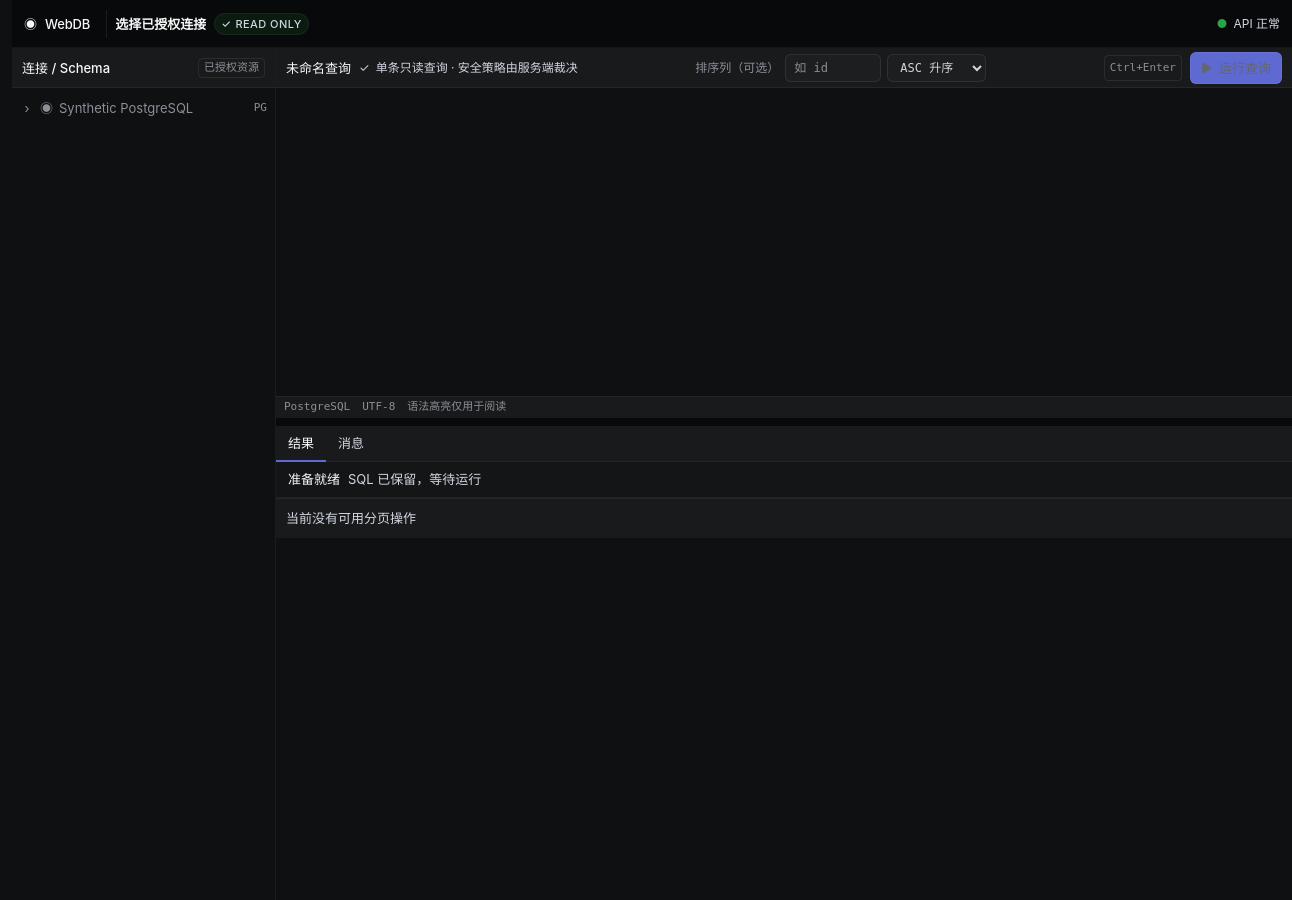
it: P0 workbench › clears pagination when the sort column changes after a paginated run
This screenshot has width=1292, height=900.
Click the list item "› ◉ Synthetic PostgreSQL PG": (144, 108) [12, 94, 275, 122]
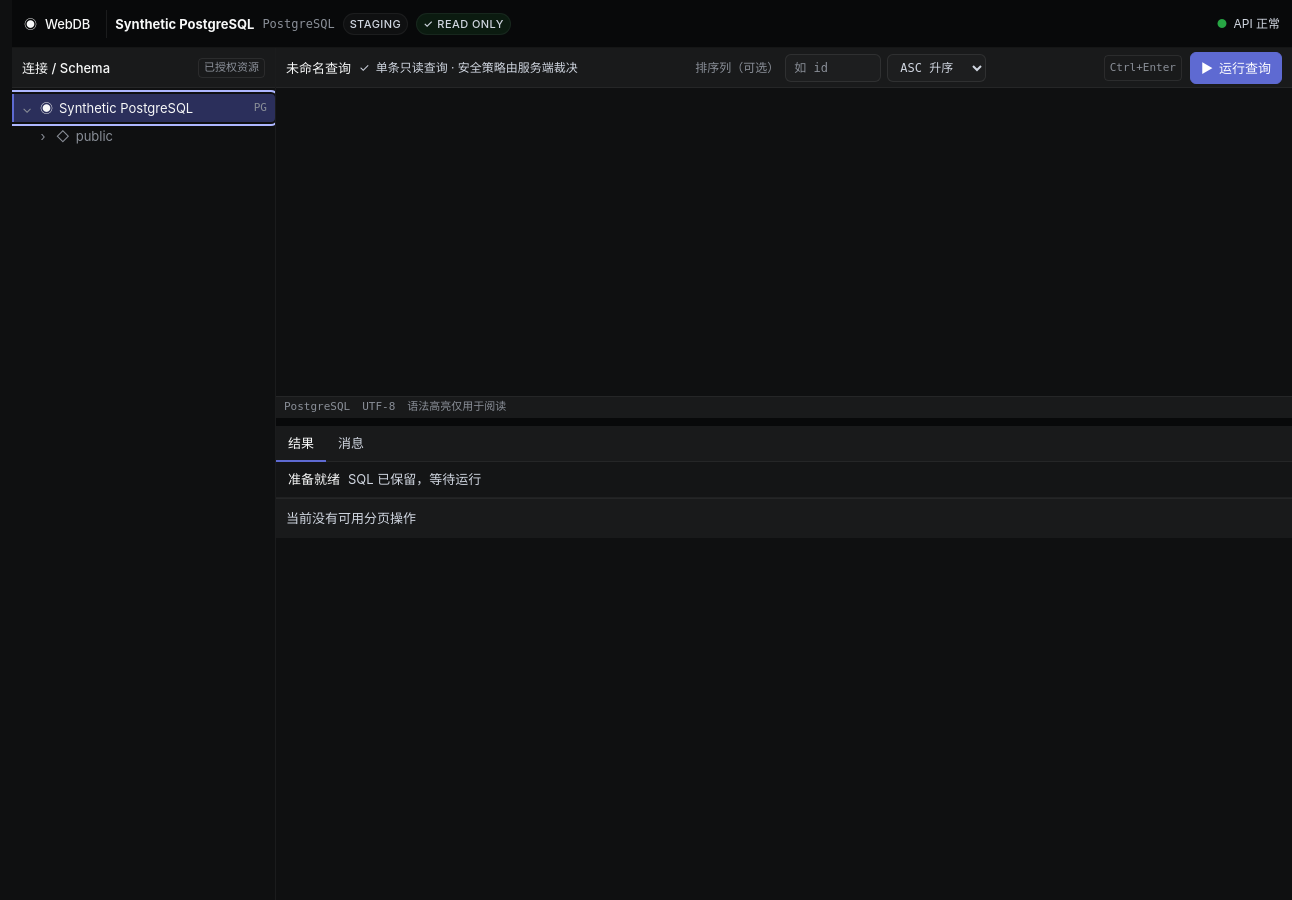
Click the button "▶ 运行查询": (1236, 68) [1190, 52, 1282, 84]
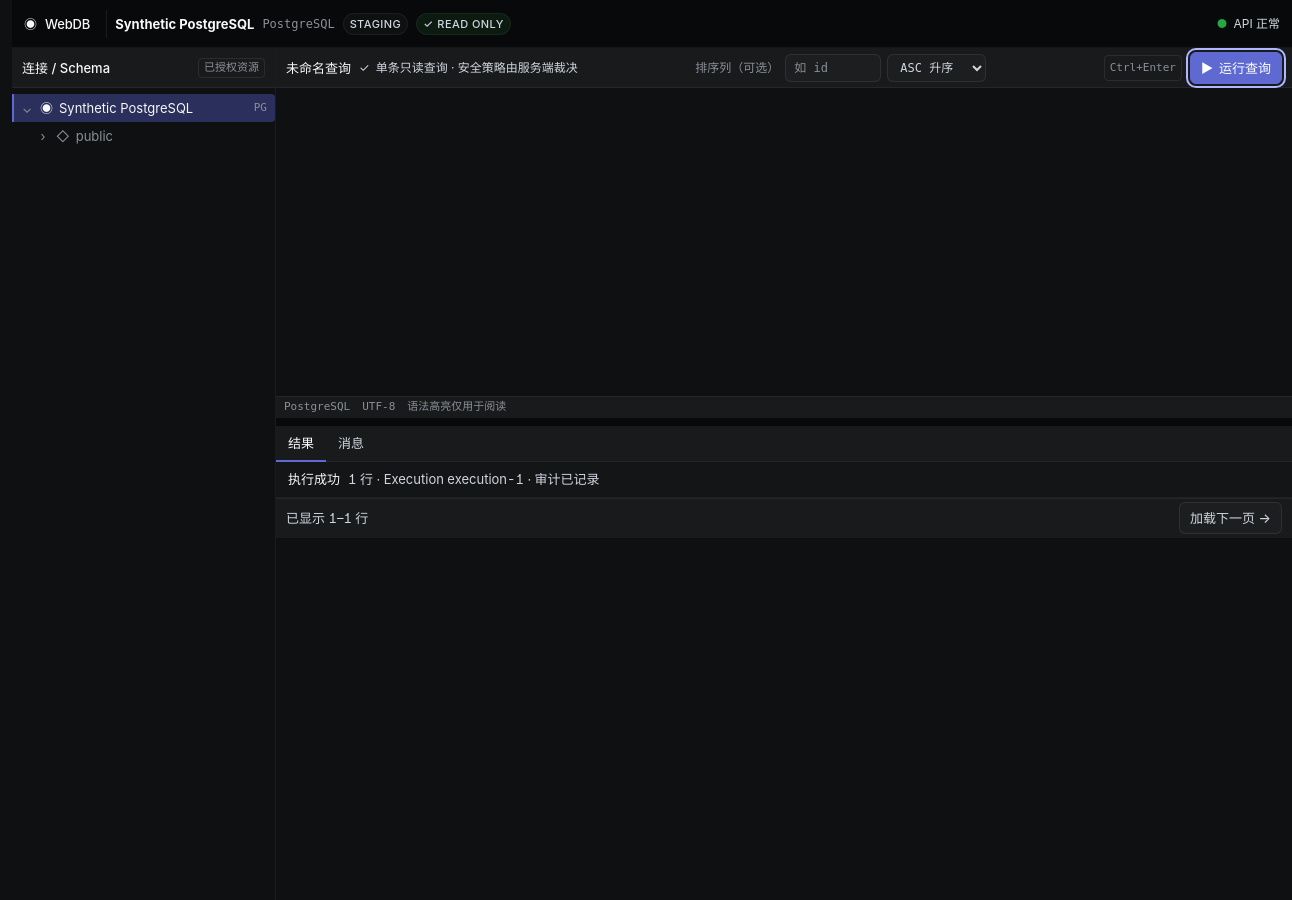
expect the button "加载下一页 →" is shown: met, box [1179, 502, 1282, 534]
In the field labelled "排序列（可选）": (833, 68) [785, 54, 881, 82], type "id"
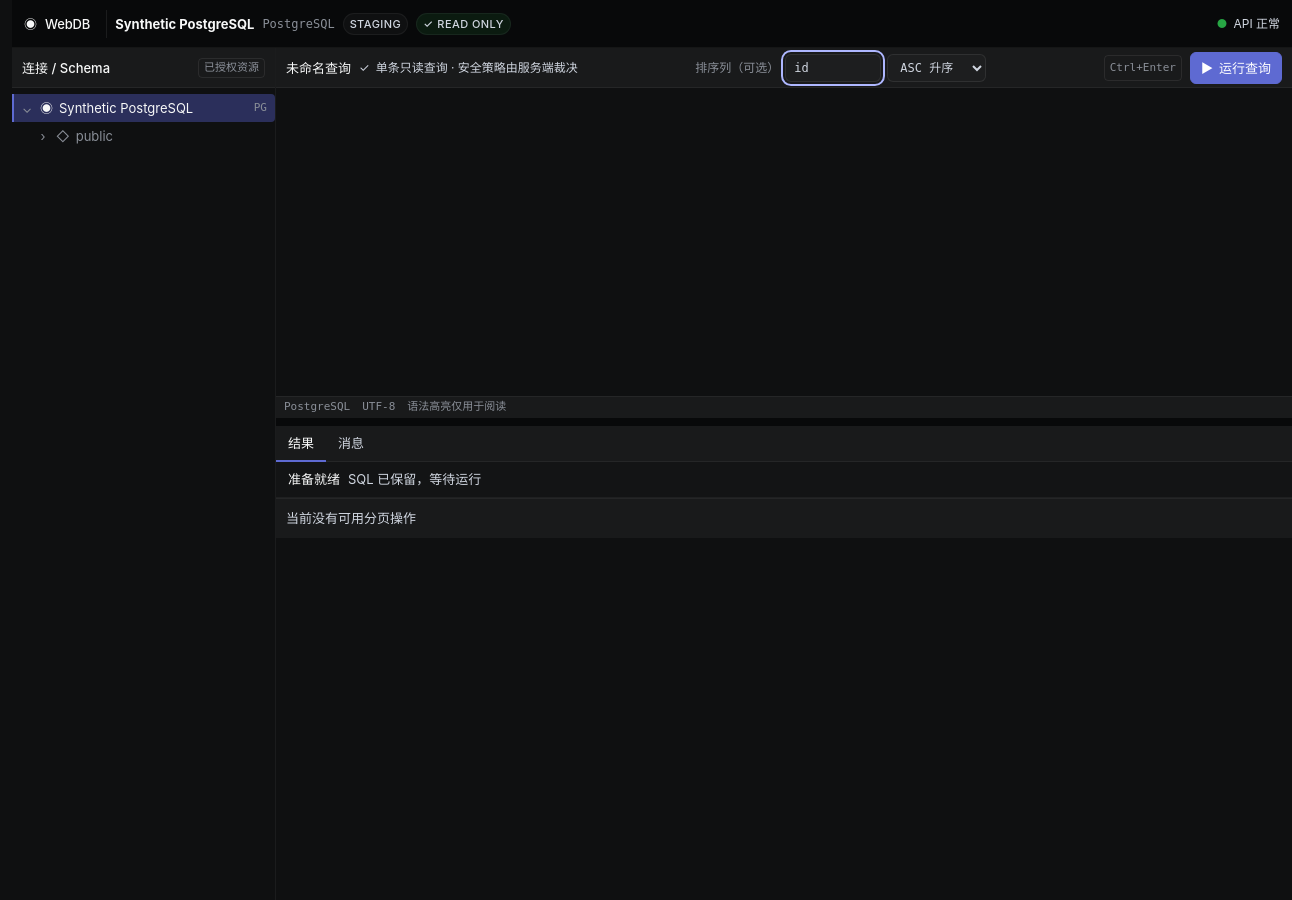
expect the button "加载下一页" is gone: met
